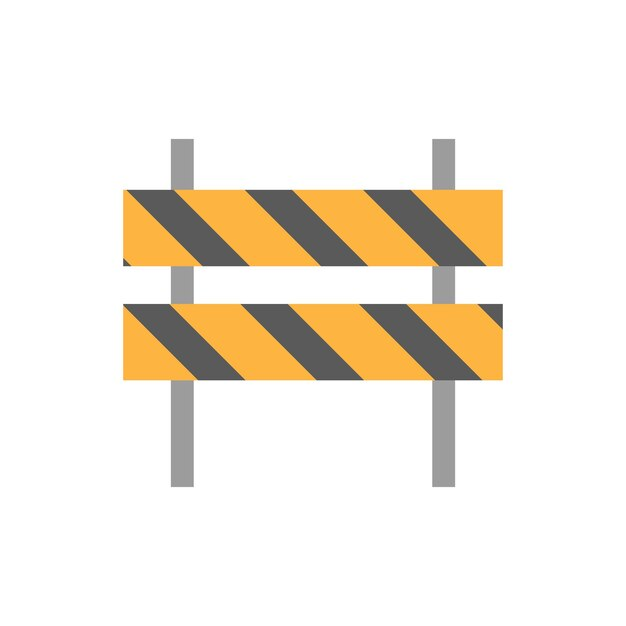Barrier: (72, 119, 556, 505)
